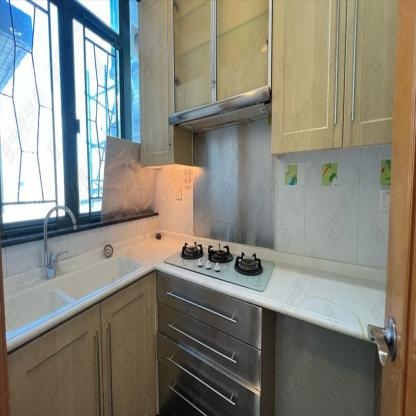Cupboard: (9, 273, 380, 415), (138, 0, 395, 170)
Exhaust Hood: (168, 85, 271, 134)
Faucet: (40, 203, 83, 275)
Sink: (3, 256, 148, 336)
Stove: (160, 240, 274, 293)
